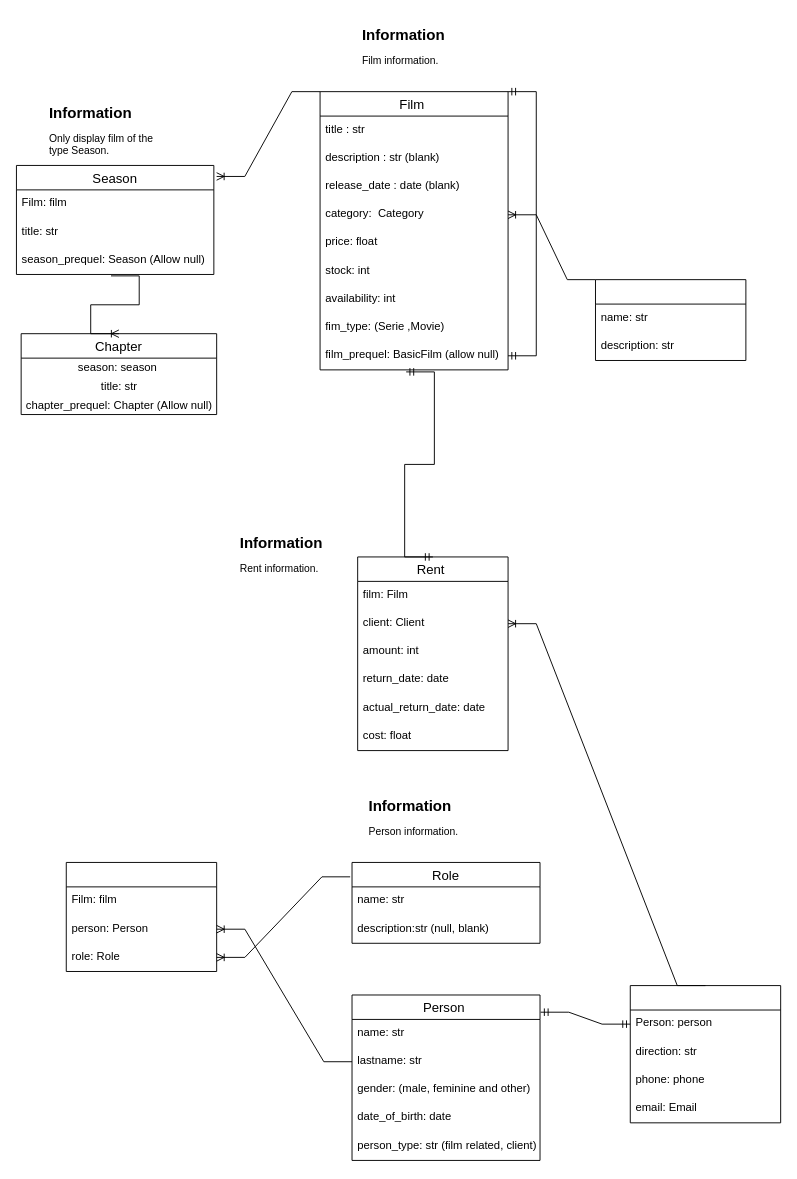
Image size: 797x1179. Some labels were removed from this diagram. Here are the shapes that lost their labels. From the top down, the box of each, then its label:
(595, 279, 746, 360): Category
(65, 862, 217, 971): FilmPersonRole
(629, 985, 781, 1123): Client
